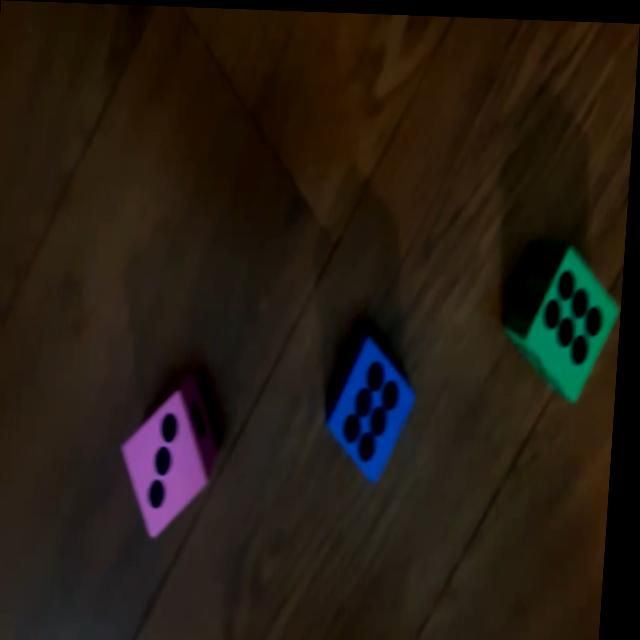blue_block: (325, 328, 421, 481)
